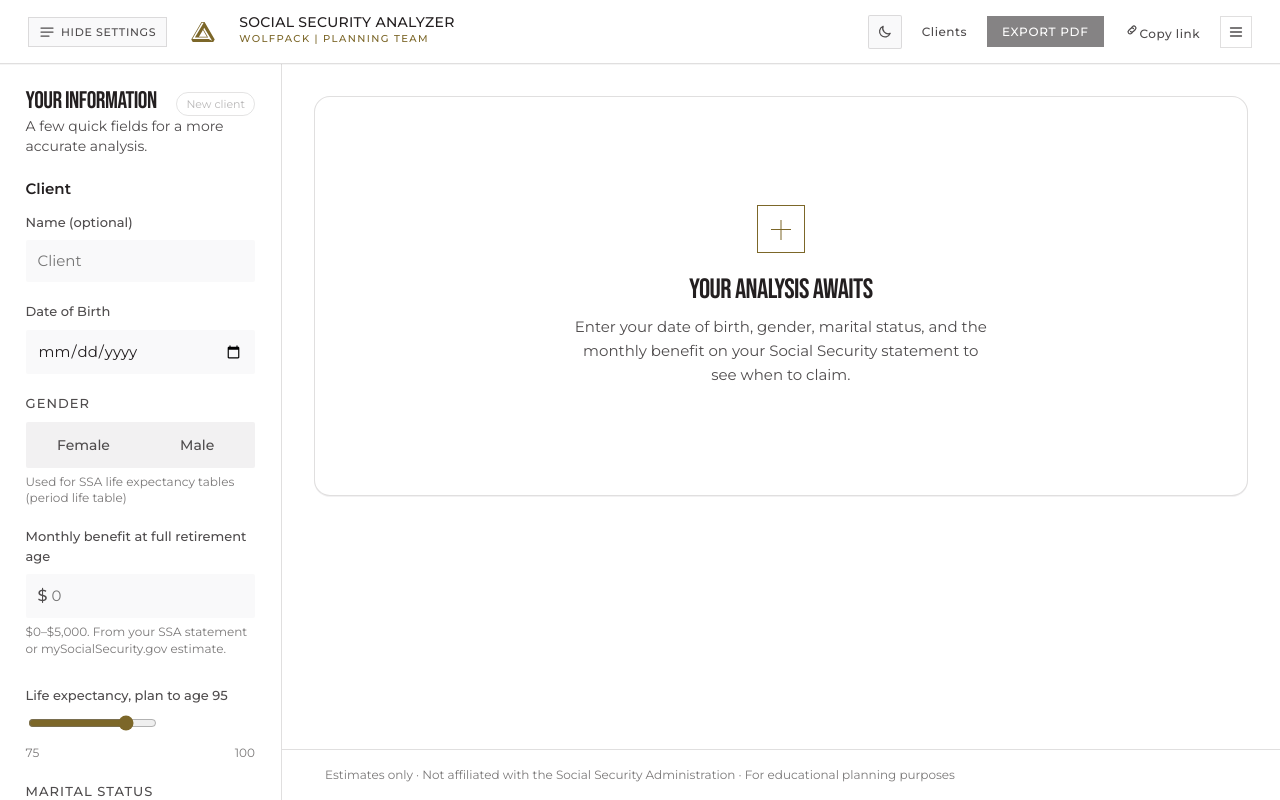
Test case: Analyzer › the About panel › opens from the menu and is closed by default
Check: the heading "About" is not shown
Click the button named "menu".
click(1236, 32)  # box [1220,16,1252,48]
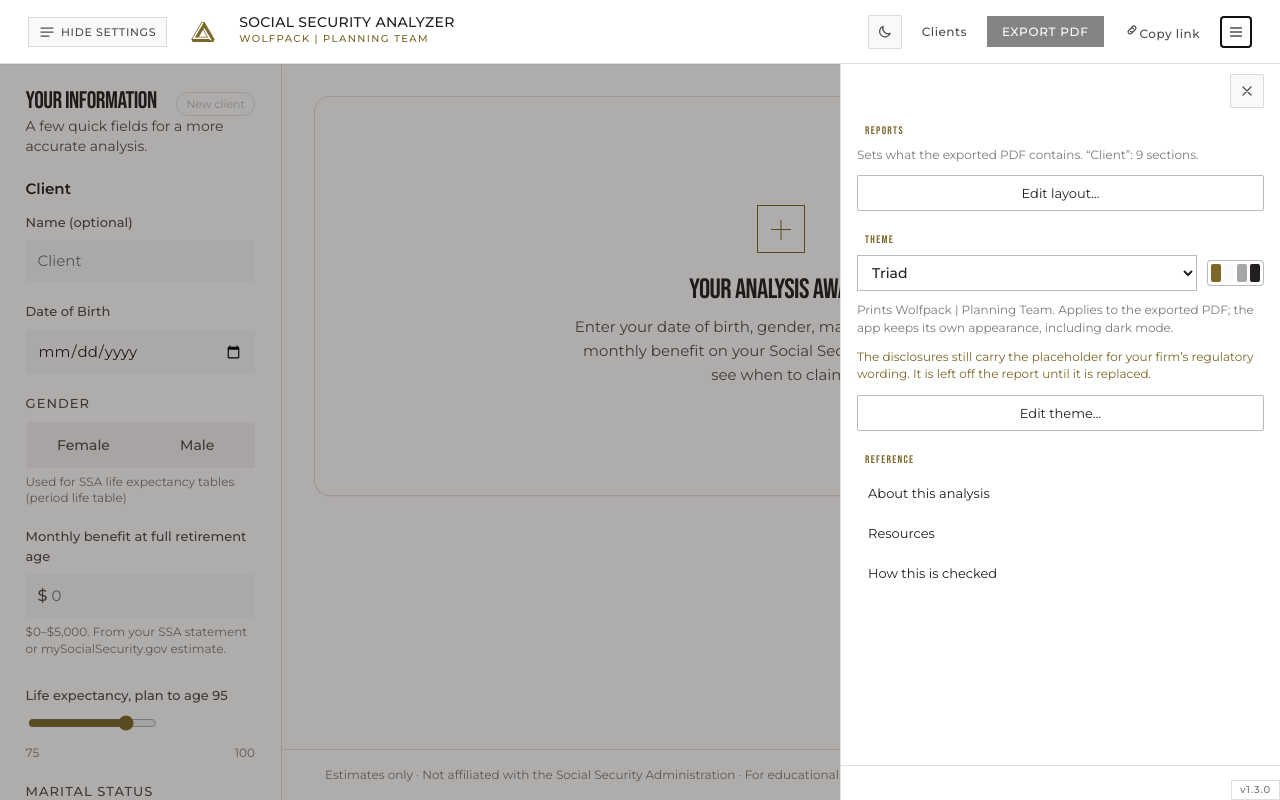
Click the button "About this analysis".
click(929, 493)  # box [857,475,1264,511]
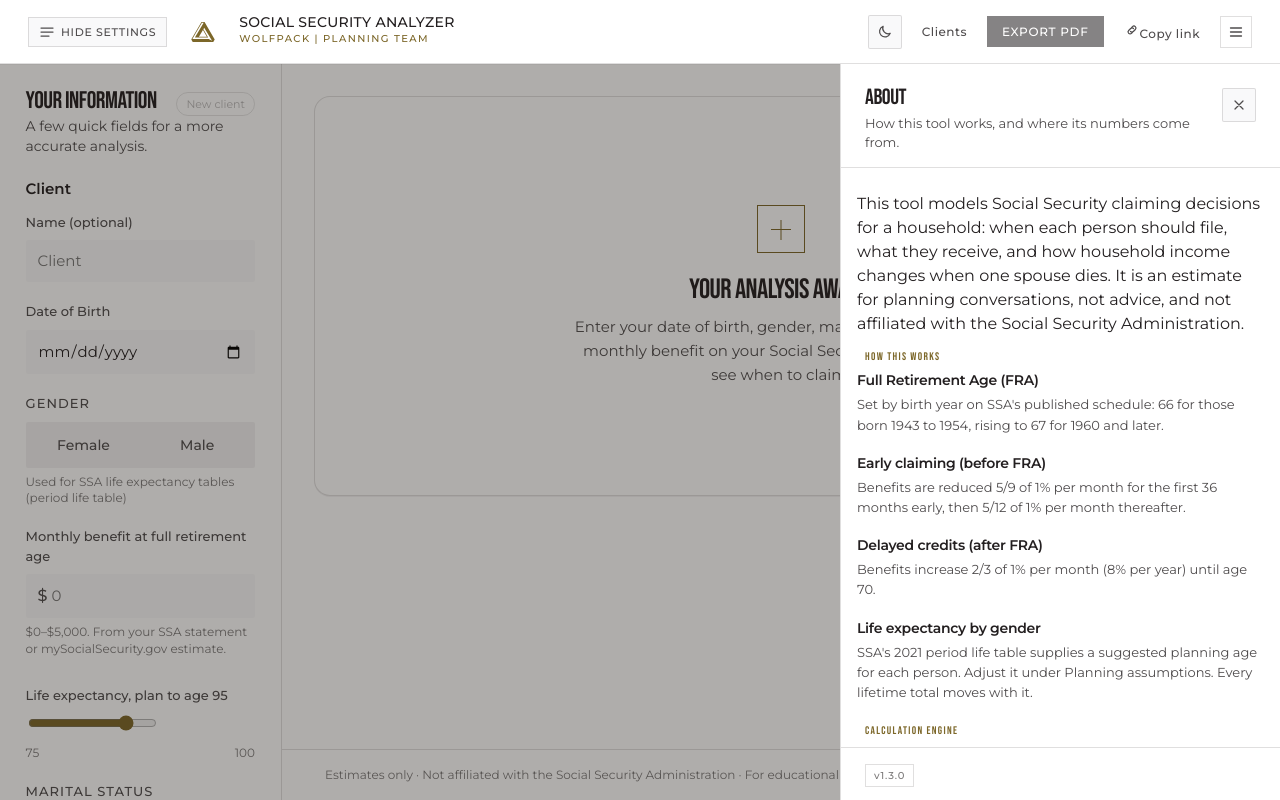
Check: the heading "How This Works" is shown, box [865,350,940,364]
